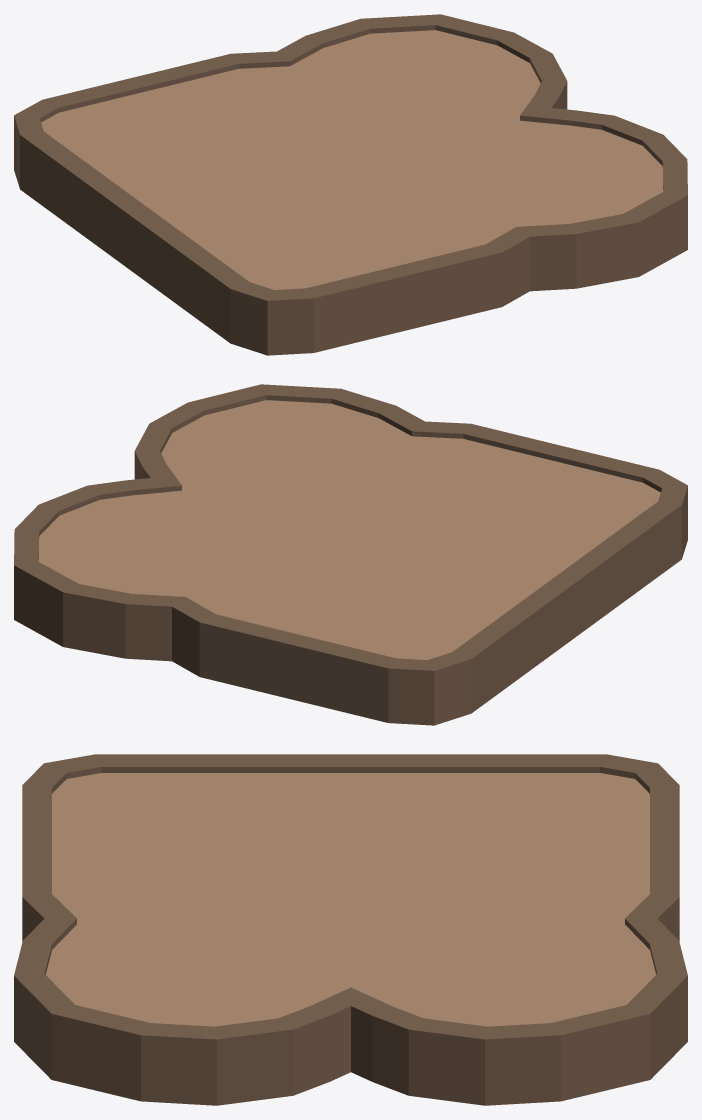
File: bread.fbx
The picture shows the model from 3 angles, top to bottom: view 1: azimuth 30°, elevation 25°; view 2: azimuth 150°, elevation 25°; view 3: azimuth 270°, elevation 25°; orthographic projection. The views are drawn at different scales.
Parts seen in each view (by area): view 1: toast2; view 2: toast2; view 3: toast2.
Part boxes in pixels (x1,y1,x2,y2): toast2: (14, 14, 687, 355); toast2: (14, 384, 687, 725); toast2: (14, 754, 687, 1105).
Size of the model in its own units: 1.13 by 0.1222 by 1.13.
